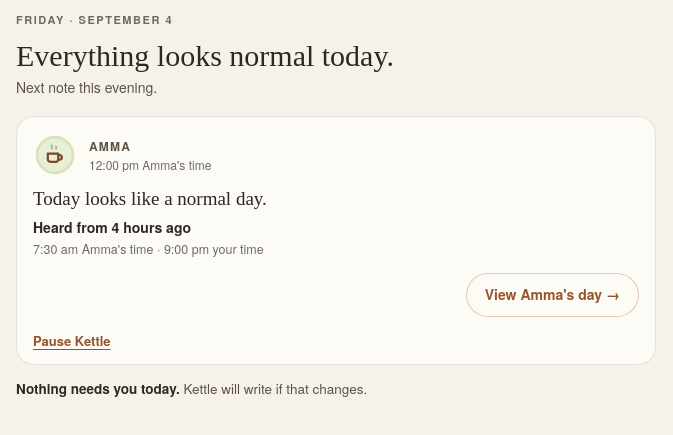
Test: the Today card › offers an admin the two durations behind one link, and Not now closes them
Later steps or results of the test are not shown.
Click the button with test id "pause-link".
click(72, 340)  # box [33,316,111,364]
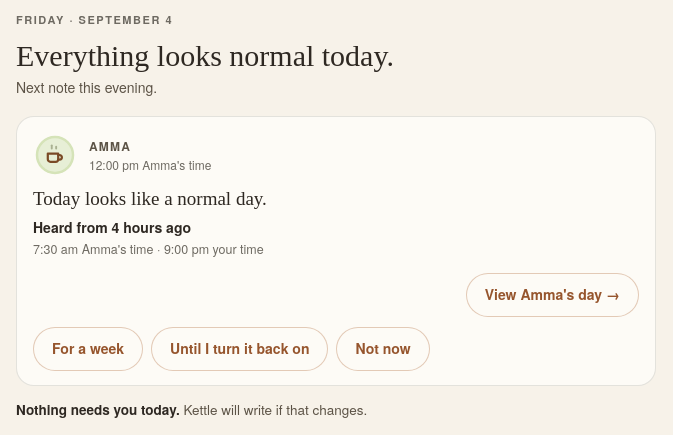
Now the button with test id "pause-week" reads "For a week", box [33,326,143,370]
Now the button with test id "pause-open" reads "Until I turn it back on", box [151,326,328,370]
Click the button "Not now".
click(383, 348)  # box [336,326,430,370]
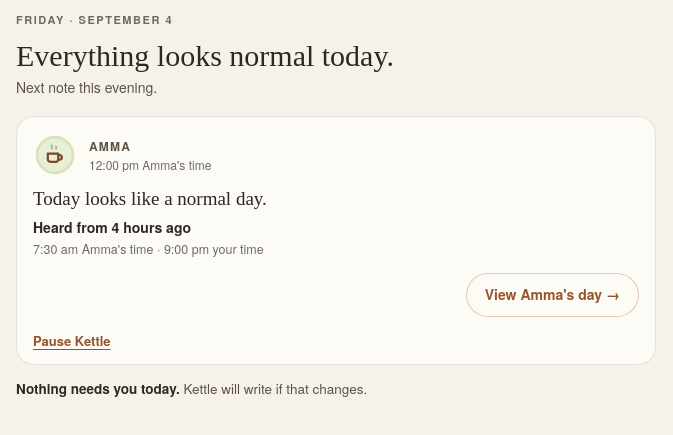
Now the element with test id "pause-choices" is gone
